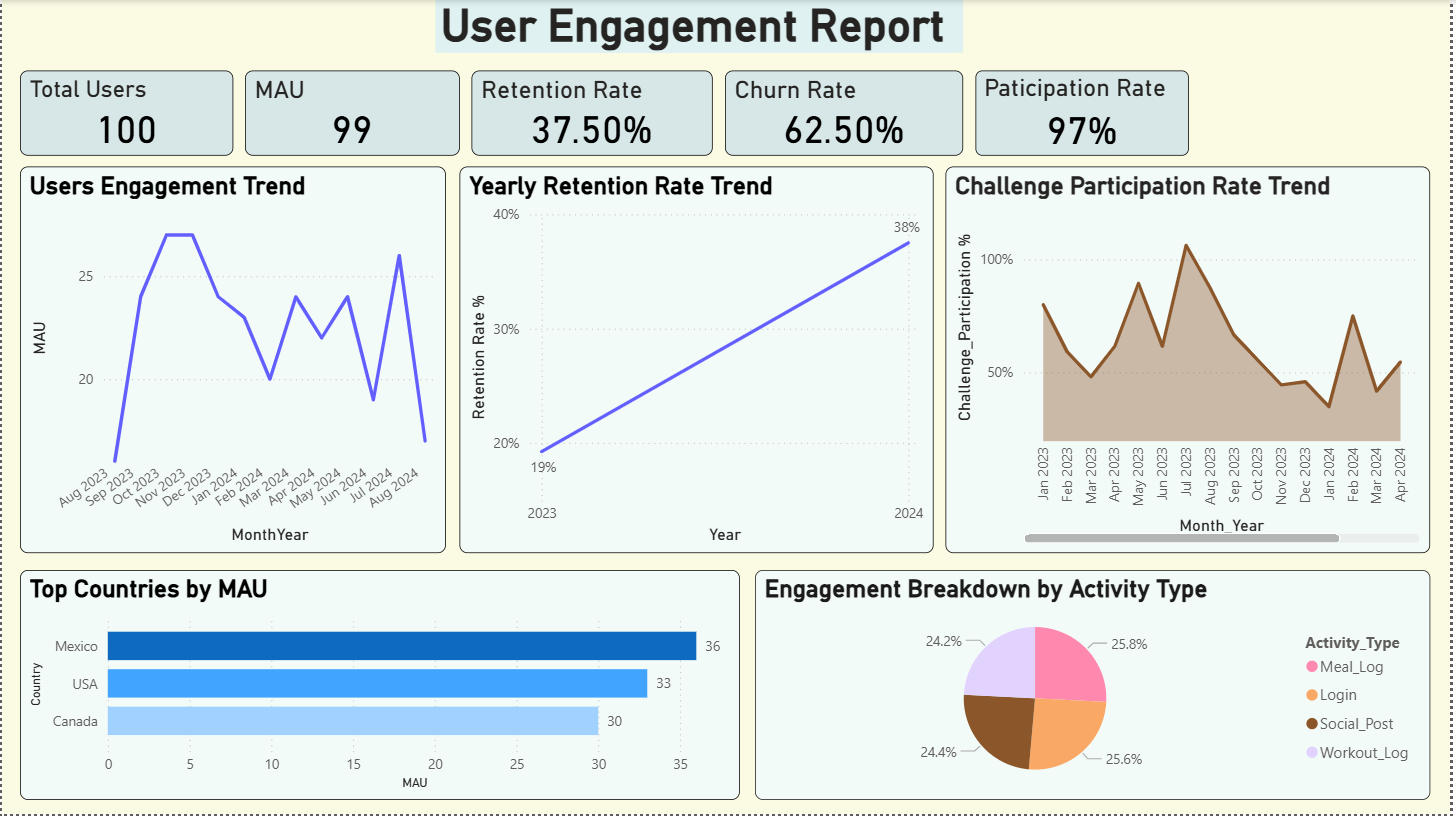

What the dashboard file says about the page in this screenshot:
{"tool":"powerbi","page":{"name":"Executive Summary","canvas":[1280,720],"ordinal":0},"visuals":[{"type":"card","title":"Total Users","fields":{"Values":["Users.Total Users"]},"box":[15.9,62.4,188.4,75.6],"z":0},{"type":"card","title":"MAU","fields":{"Values":["Activities.MAU"]},"box":[214.9,62.4,189.7,75.6],"z":1000},{"type":"card","title":"Retention Rate","fields":{"Values":["Activities.Retention Rate %"]},"box":[415.3,62.4,213.6,75.6],"z":2000},{"type":"card","title":"Churn Rate","fields":{"Values":["Activities.Churn Rate %"]},"box":[639.5,62.4,211,75.6],"z":3000},{"type":"card","title":"Paticipation Rate","fields":{"Values":["Challenges.Challenge Participation %"]},"box":[861.1,62.4,188.4,75.6],"z":4000},{"type":"lineChart","title":"Users Engagement Trend","fields":{"Category":["Activities.MonthYear"],"Y":["Activities.MAU"]},"box":[15.9,147.3,376.8,342.3],"z":5000},{"type":"lineChart","title":"Yearly Retention Rate Trend","fields":{"Y":["Activities.Retention Rate %"],"Category":["Activities.Timestamp.Variation.Date Hierarchy.Year"]},"box":[404.7,147.3,419.3,342.3],"z":6000},{"type":"areaChart","title":"Challenge Participation Rate Trend","fields":{"Category":["Challenges.Month_Year"],"Y":["Challenges.Challenge_Participation %"]},"box":[834.6,147.3,428.6,342.3],"z":7000},{"type":"barChart","title":"Top Countries by MAU","fields":{"Category":["Users.Country"],"Y":["Activities.MAU"]},"box":[15.9,504.2,636.9,203],"z":8000},{"type":"pieChart","title":"Engagement Breakdown by Activity Type","fields":{"Category":["Activities.Activity_Type"],"Y":["Activities.Total Activities"]},"box":[666.1,504.2,597.1,203],"z":9000},{"type":"textbox","title":"User Engagement Report","box":[383.1,0,466.4,46.9],"z":9001}]}

Visuals, with their boxes in screenshot pixels (x1, y1, x2, y2), scaled from the page's 1280x720 canvas onto the 1456x816 screenshot:
"Total Users" card: 18:71:232:156
"MAU" card: 244:71:460:156
"Retention Rate" card: 472:71:715:156
"Churn Rate" card: 727:71:967:156
"Paticipation Rate" card: 980:71:1194:156
"Users Engagement Trend" lineChart: 18:167:447:555
"Yearly Retention Rate Trend" lineChart: 460:167:937:555
"Challenge Participation Rate Trend" areaChart: 949:167:1437:555
"Top Countries by MAU" barChart: 18:571:743:801
"Engagement Breakdown by Activity Type" pieChart: 758:571:1437:801
"User Engagement Report" textbox: 436:0:966:53
